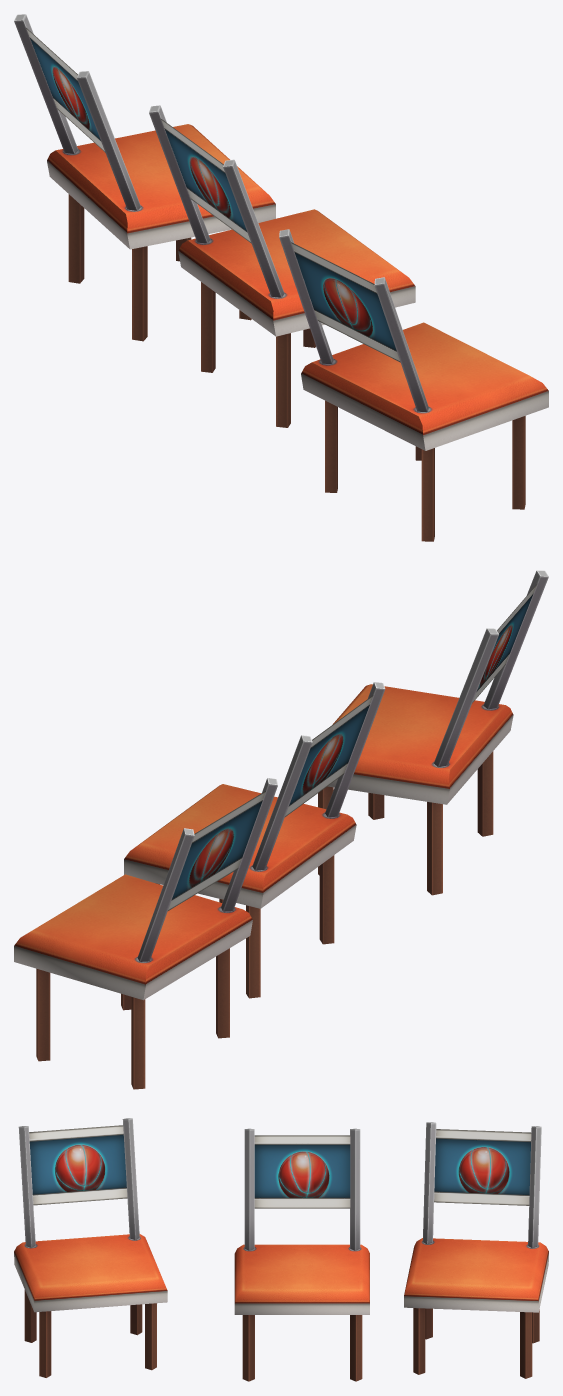
The model's file is Chair1.FBX.
3 views of the same model, one above another, from view 1: azimuth 30°, elevation 25°; view 2: azimuth 150°, elevation 25°; view 3: azimuth 270°, elevation 25° (orthographic). The views are drawn at different scales.
Visible parts, largest first — view 1: Chair1; view 2: Chair1; view 3: Chair1.
Boxes of the visible parts, <box> form: Chair1: <box>14,14,548,541</box>; Chair1: <box>14,570,548,1089</box>; Chair1: <box>14,1118,548,1381</box>.
Size of the model in its own units: 134 by 412 by 167.
1 material, 1 textured.
